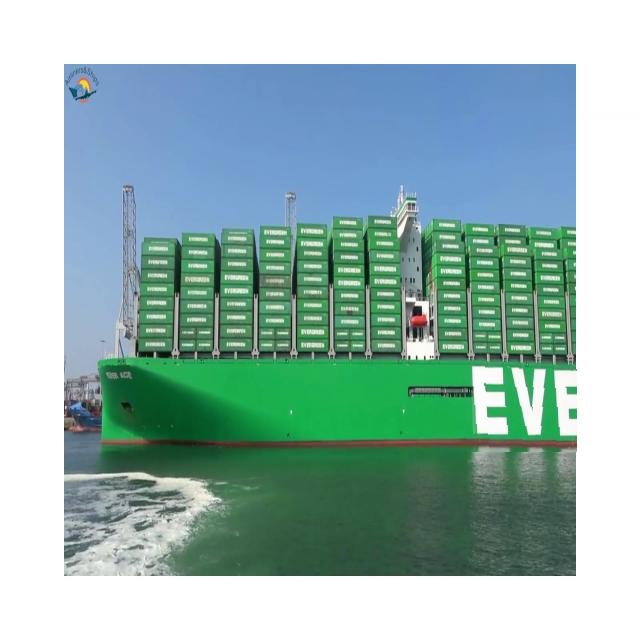OCR: (467, 357, 577, 452), (101, 364, 135, 386)
